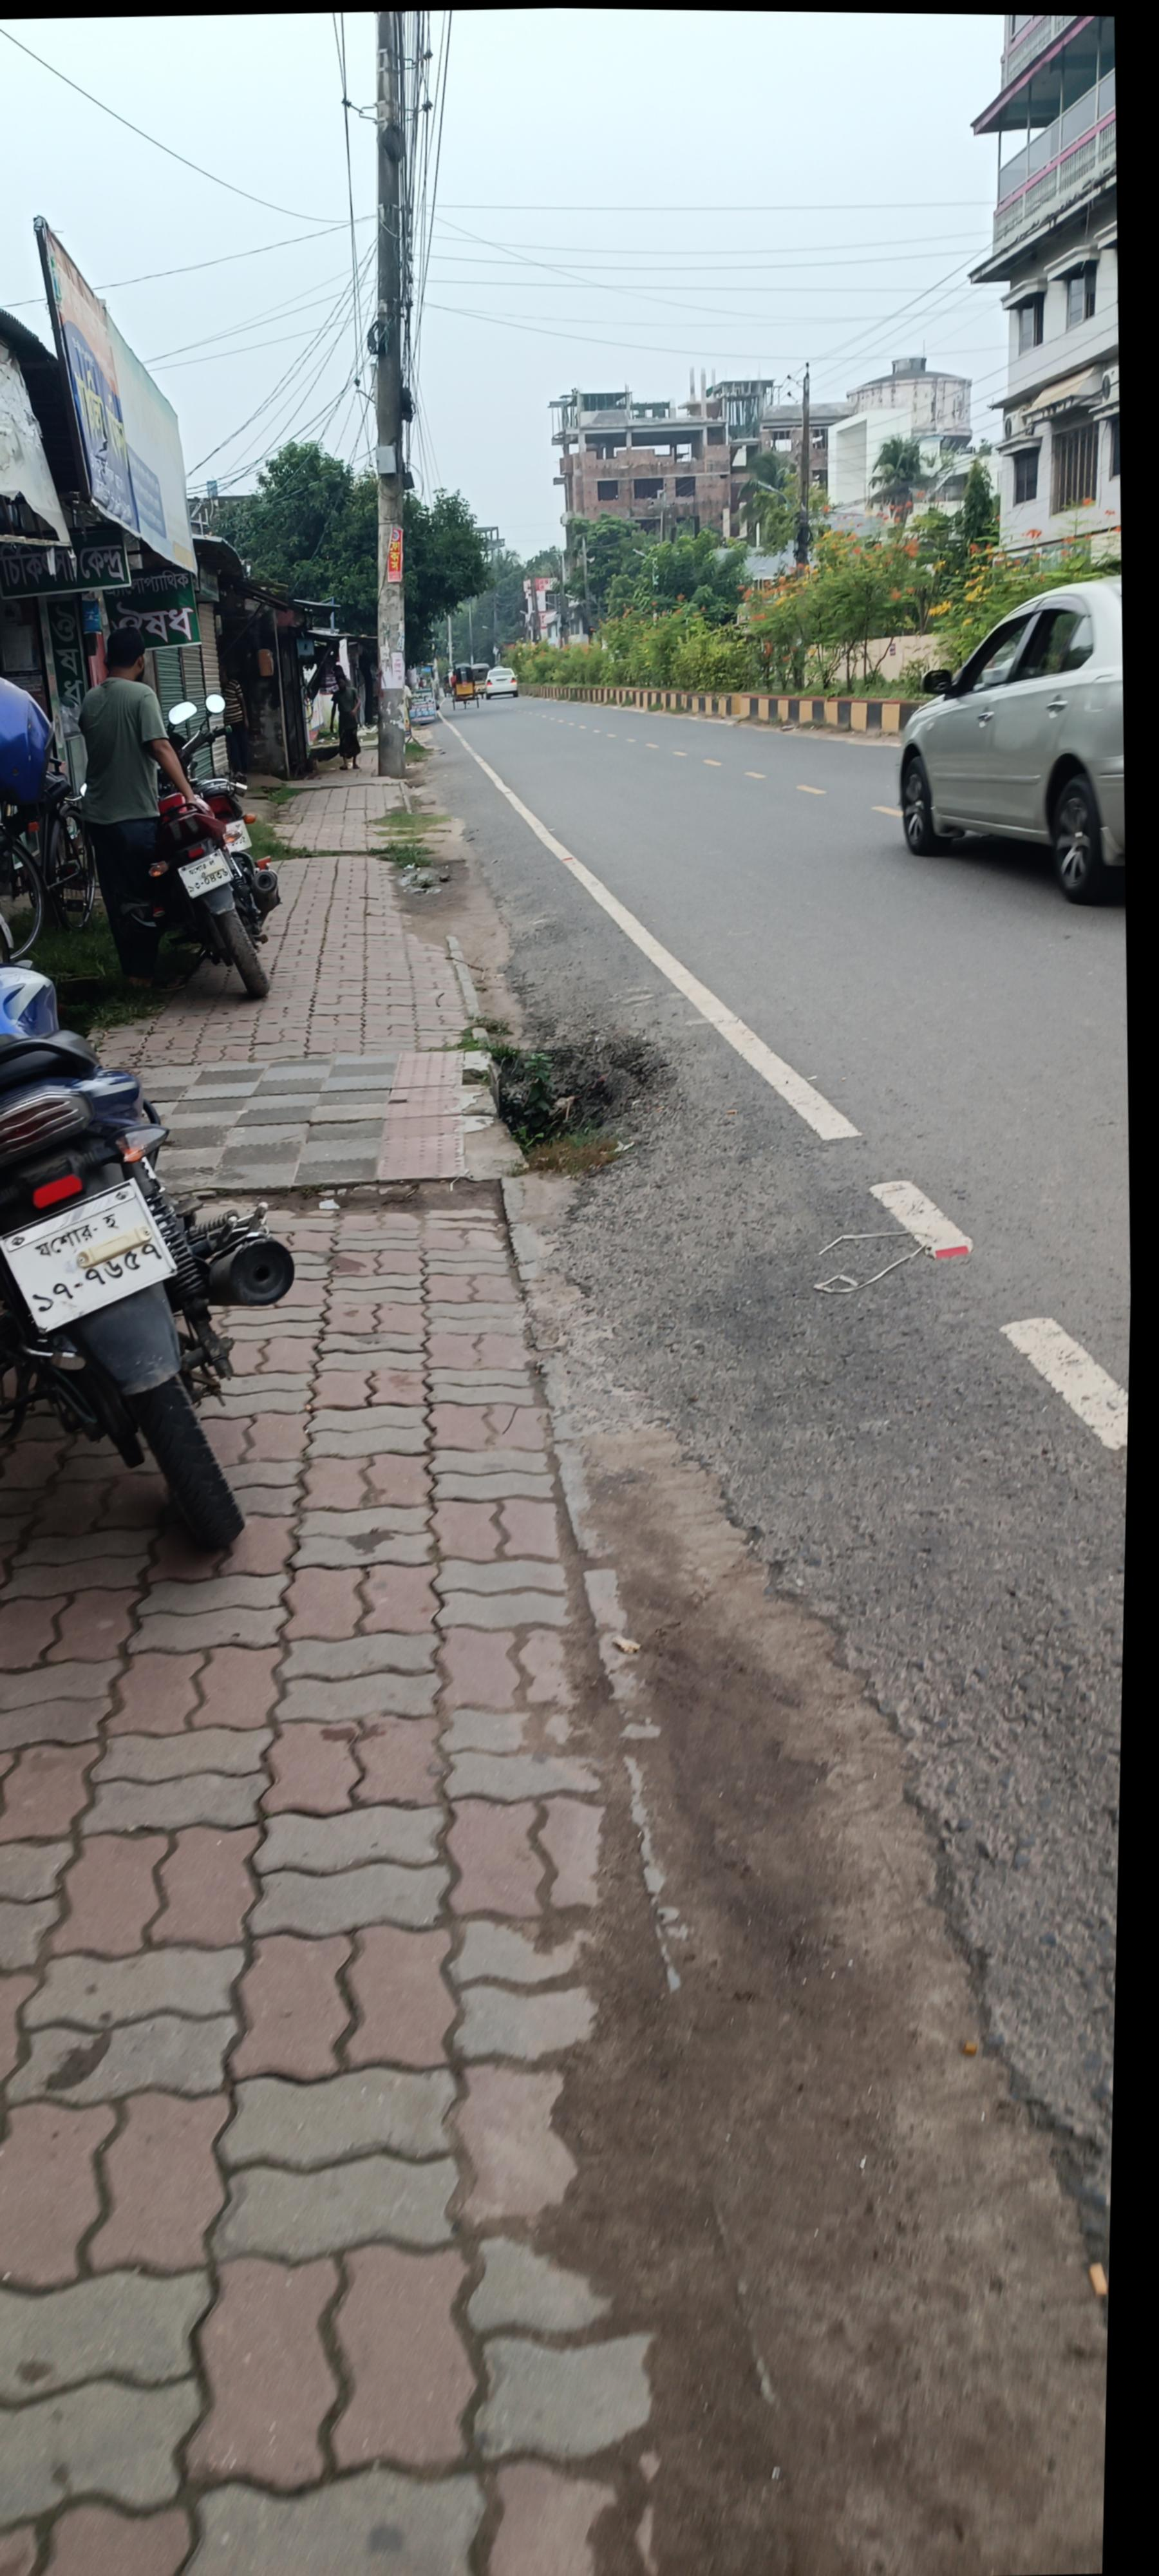Construction-barrier: (476, 685, 888, 769)
Fallen-tree: (0, 959, 274, 1579), (97, 708, 250, 1022)
Garbage-bin: (30, 644, 177, 1010)
Light-pole: (307, 31, 399, 795)
Pothole: (0, 682, 819, 2576)
Traffic-cone: (818, 570, 1095, 968)
